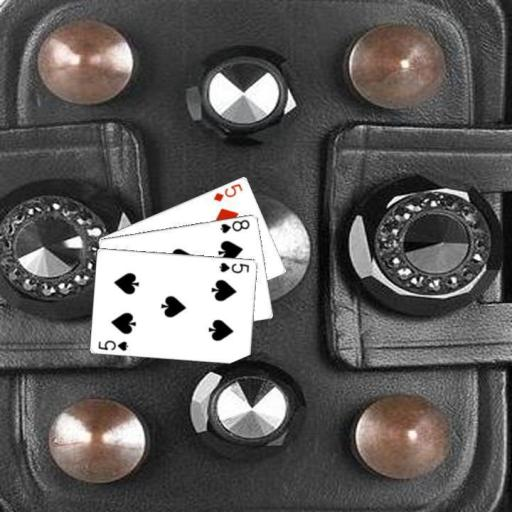card-corner: (210, 180, 244, 203), (217, 216, 251, 234), (216, 259, 251, 274), (95, 337, 130, 352)
